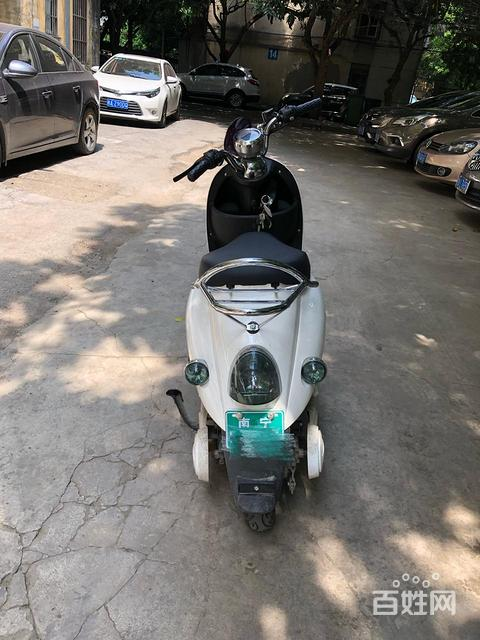电动车: (162, 64, 361, 543)
